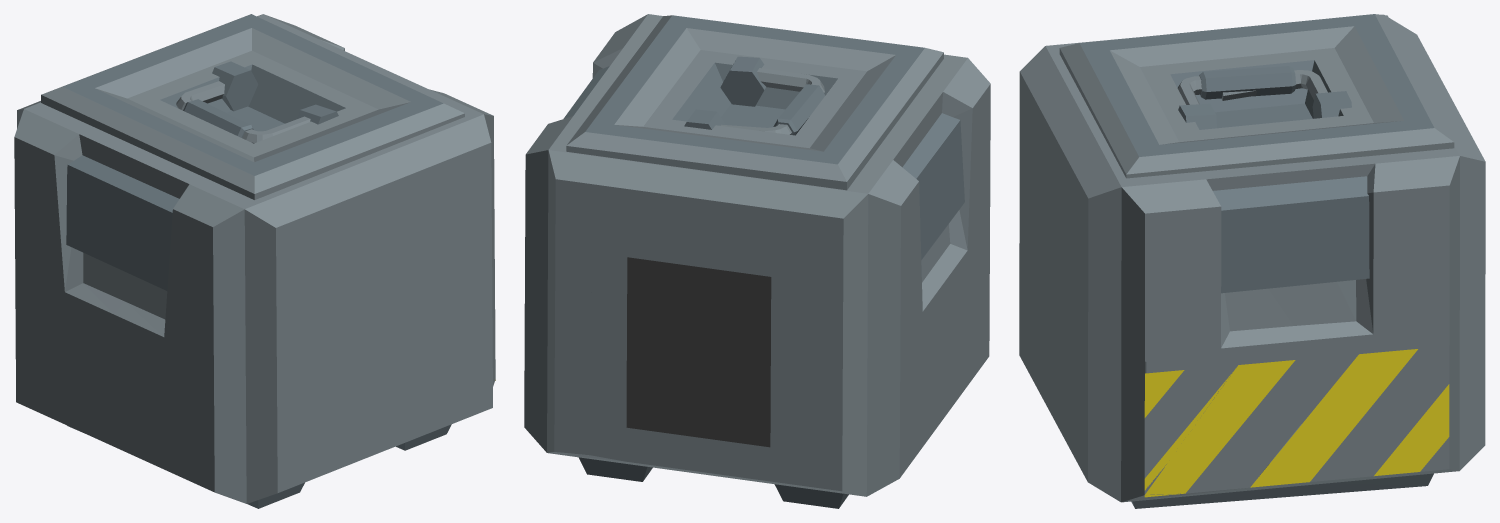
Rendered from secure_container.glb.
3 renders of one model, left to right at view 1: azimuth 30°, elevation 25°; view 2: azimuth 150°, elevation 25°; view 3: azimuth 270°, elevation 25°, orthographic. The views are drawn at different scales.
Visible parts, largest first — view 1: secure_container; view 2: secure_container; view 3: secure_container.
Part boxes in pixels (left/top/right/bottom): secure_container: left=14, top=14, right=495, bottom=508; secure_container: left=524, top=14, right=990, bottom=508; secure_container: left=1019, top=14, right=1485, bottom=508.
Size of the model in its own units: 0.4792 by 0.4066 by 0.4778.
